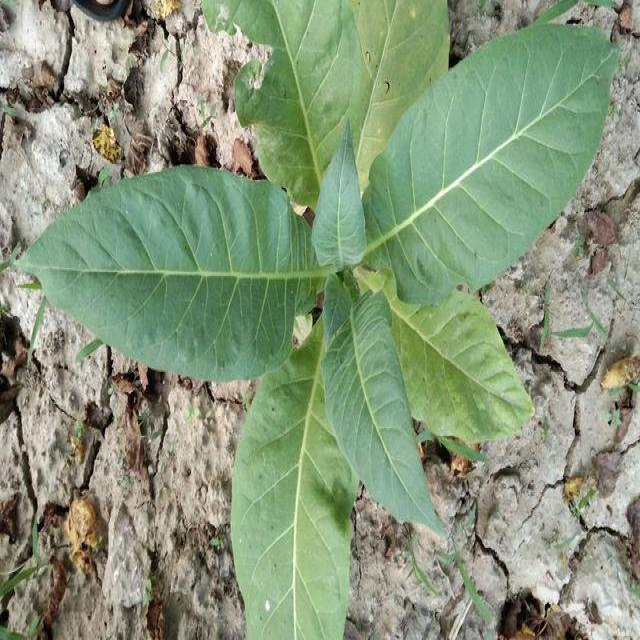crop: (31, 12, 610, 636)
